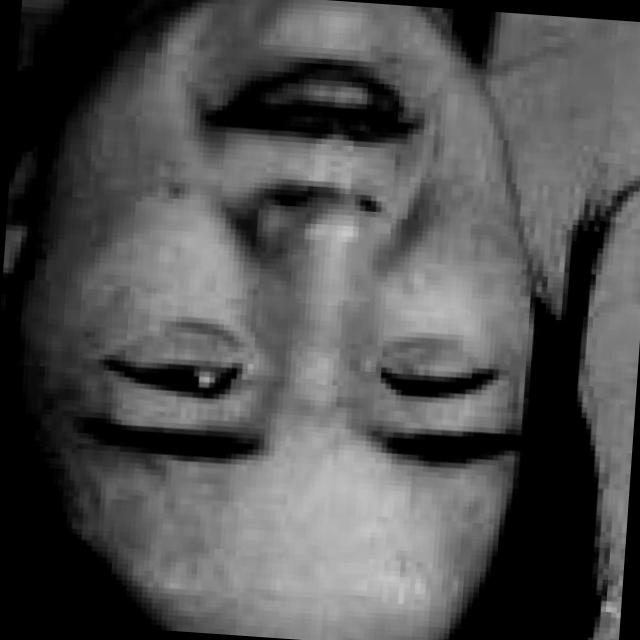disgust: (83, 0, 581, 636)
